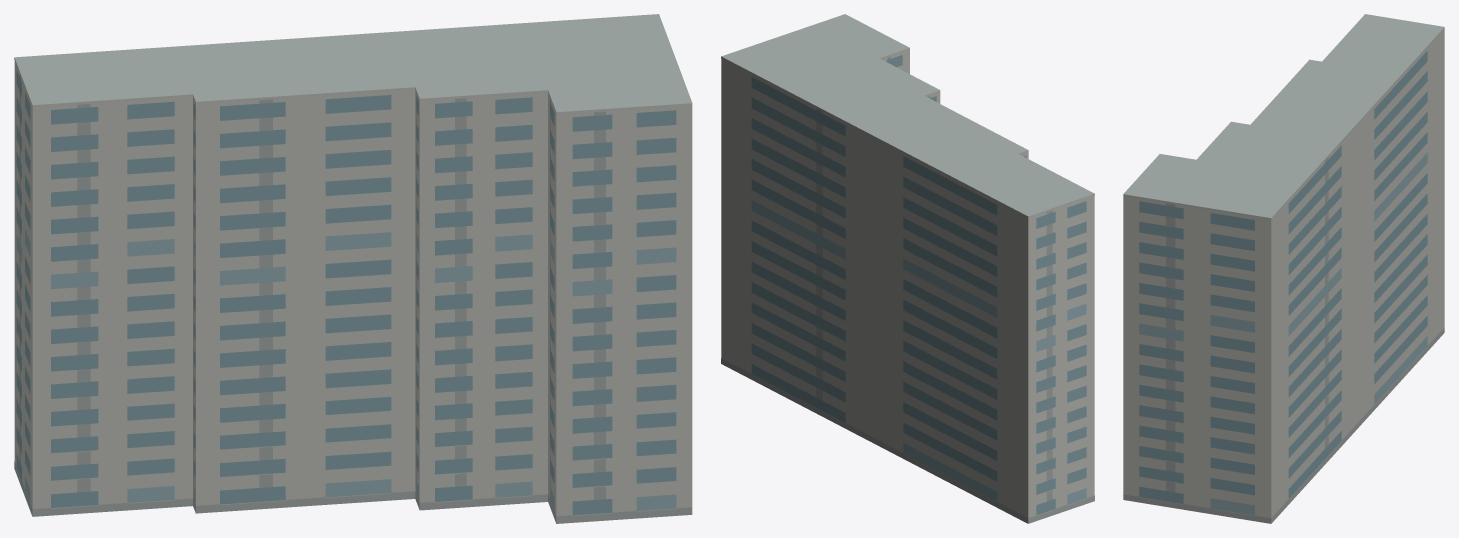
The model's file is residential-7ee9430d-3efd-4f6a-9fa5-58cf3368fac0.glb.
3 views of the same model, side by side, from view 1: azimuth 30°, elevation 25°; view 2: azimuth 150°, elevation 25°; view 3: azimuth 270°, elevation 25° (orthographic). The views are drawn at different scales.
Visible parts, largest first — view 1: residential-7ee9430d-3efd-4f6a-9fa5-58cf3368fac0.tmp; view 2: residential-7ee9430d-3efd-4f6a-9fa5-58cf3368fac0.tmp; view 3: residential-7ee9430d-3efd-4f6a-9fa5-58cf3368fac0.tmp.
Boxes of the visible parts, x1,y1,x2,y2 form: residential-7ee9430d-3efd-4f6a-9fa5-58cf3368fac0.tmp: (14, 14, 692, 523); residential-7ee9430d-3efd-4f6a-9fa5-58cf3368fac0.tmp: (721, 14, 1094, 523); residential-7ee9430d-3efd-4f6a-9fa5-58cf3368fac0.tmp: (1123, 14, 1444, 523).
Bounding box in the file's own units: 57.3 × 40 × 38.14.
